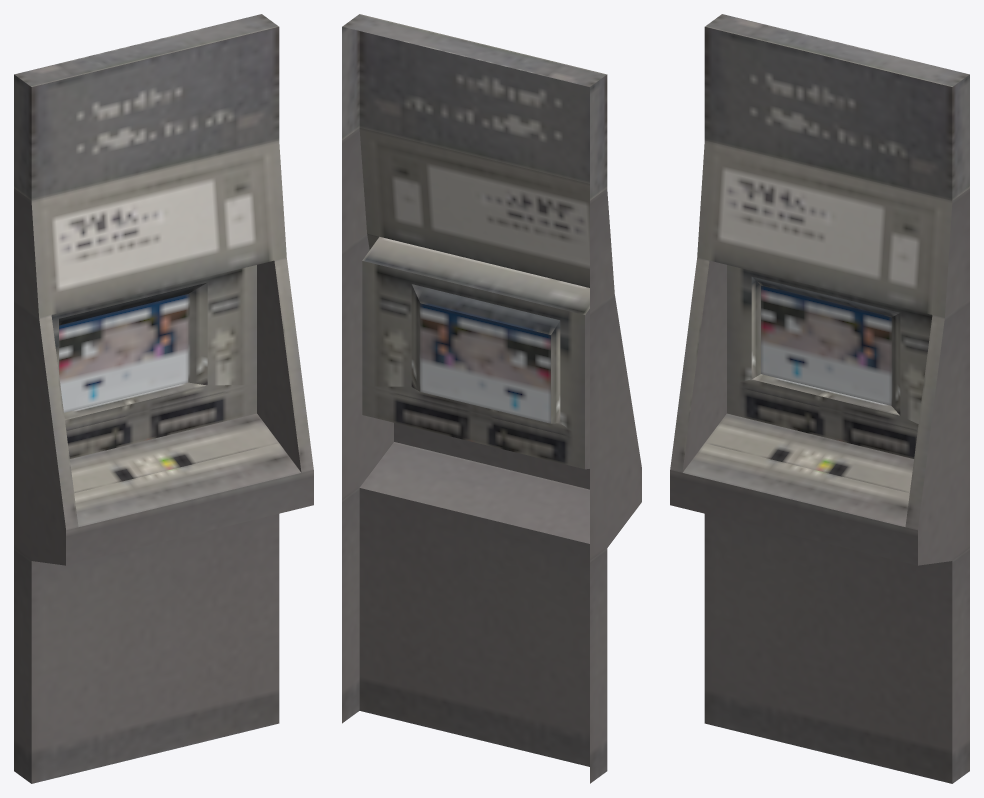
Rendered from ATM01.obj.
The picture shows the model from 3 angles, left to right: view 1: azimuth 30°, elevation 25°; view 2: azimuth 150°, elevation 25°; view 3: azimuth 330°, elevation 25°; orthographic projection.
Visible parts, largest first — view 1: ATM01; view 2: ATM01; view 3: ATM01.
Part boxes in pixels (box(x1,y1,x2,y2)): ATM01: box(14, 14, 313, 783); ATM01: box(342, 14, 641, 783); ATM01: box(670, 14, 969, 783).
Bounding box in the file's own units: 1.39 × 3.75 × 0.5072.
